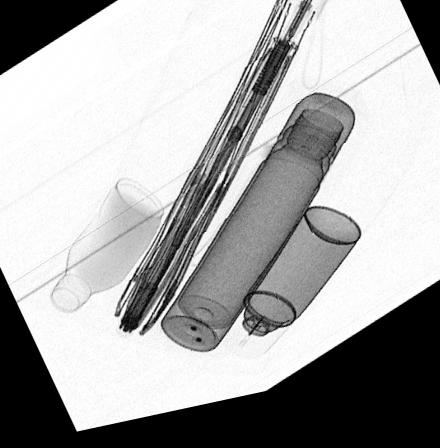Sprayer: (219, 217, 361, 373)
